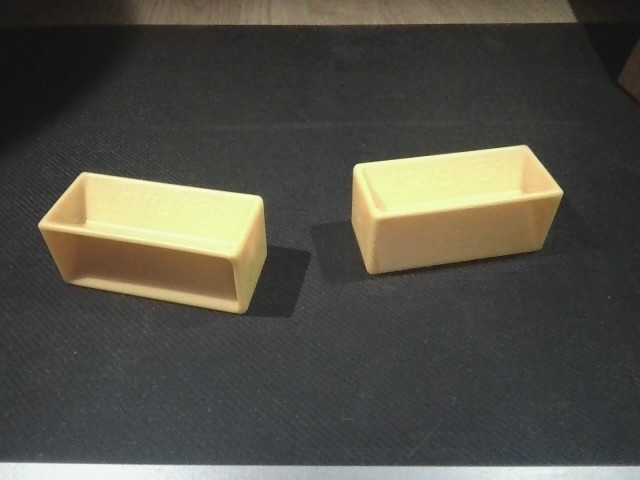YellowSample: (33, 170, 275, 325), (346, 140, 568, 282)
